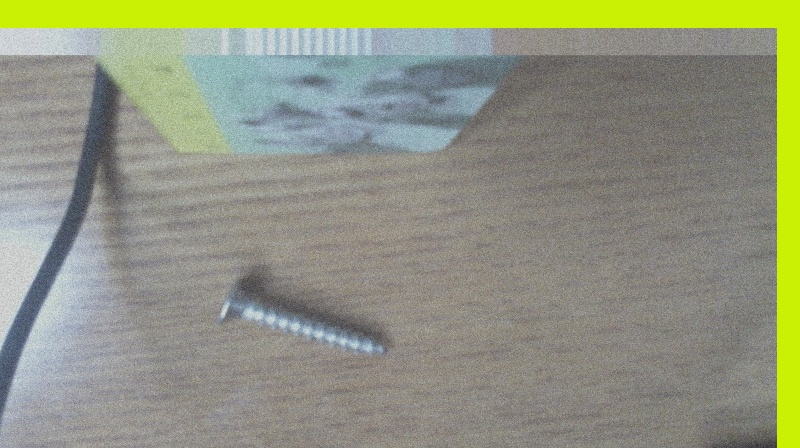S001: (214, 275, 390, 358)
